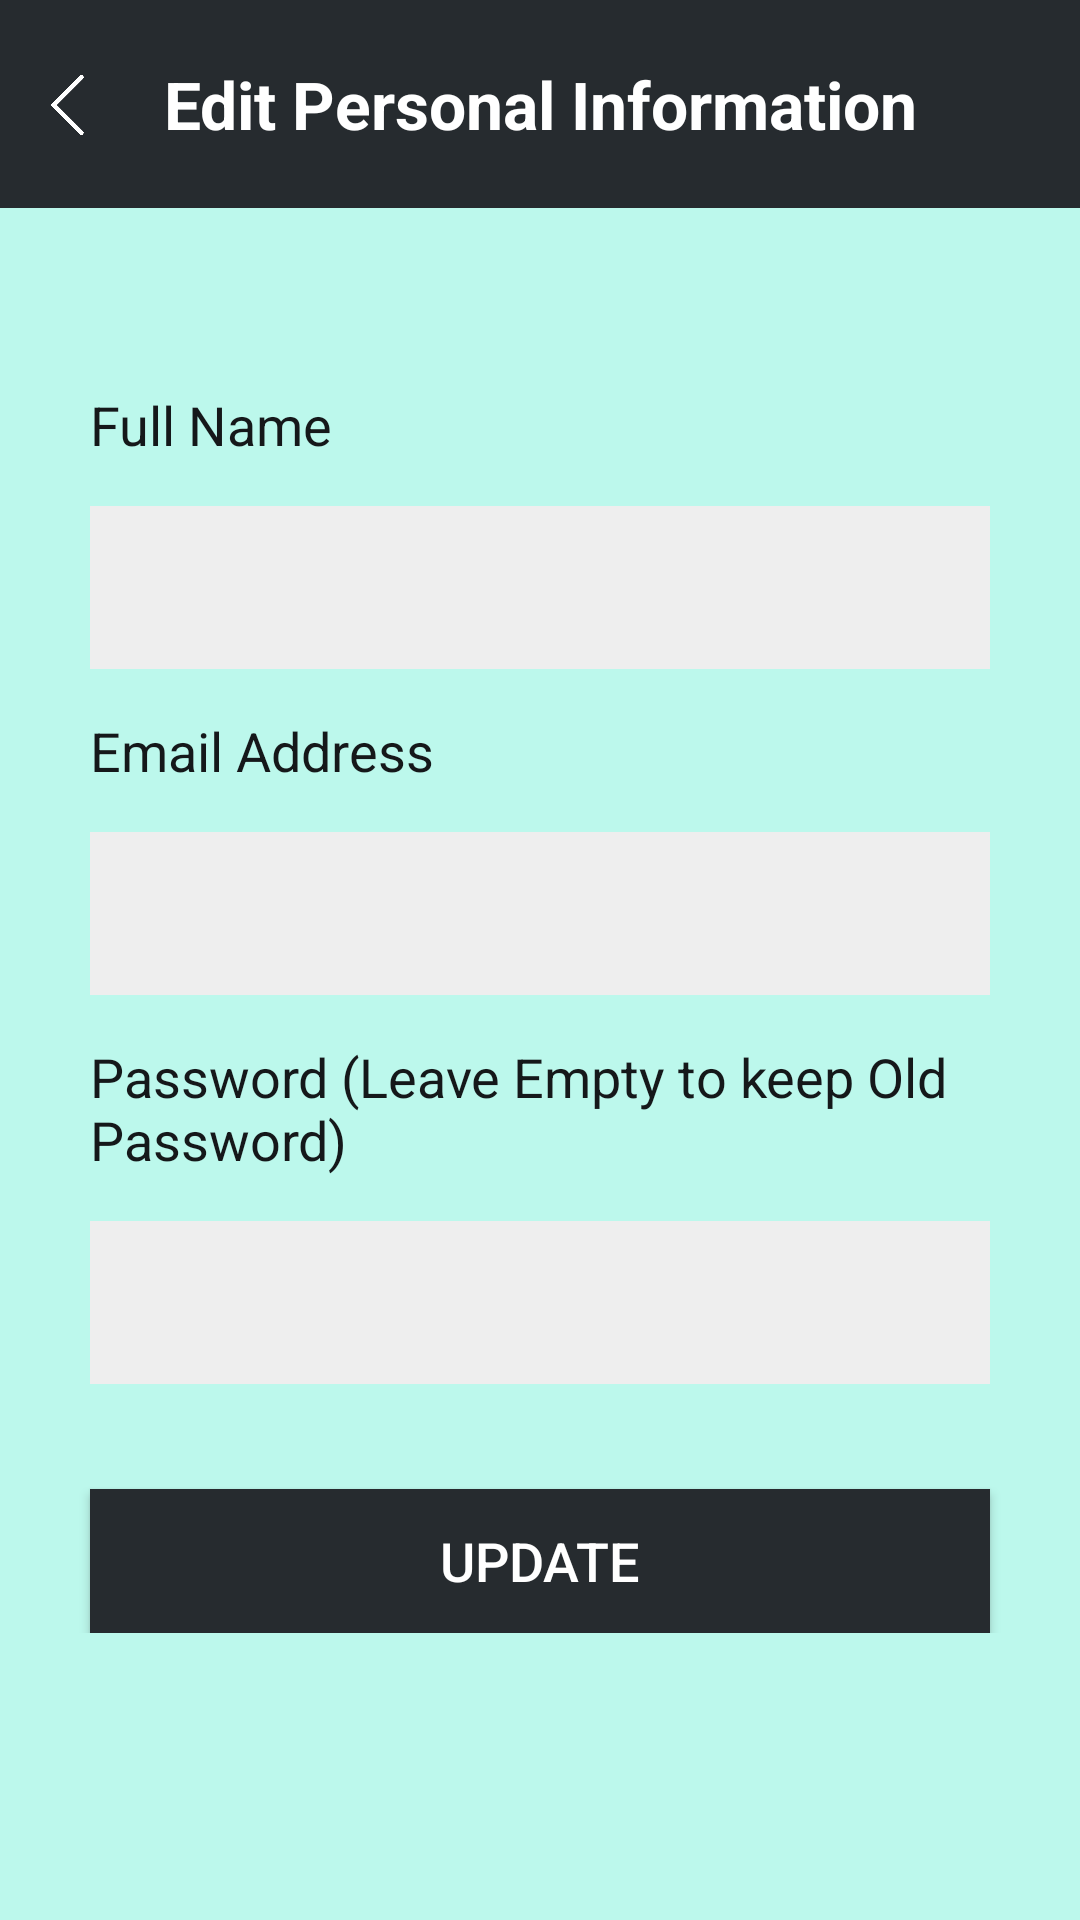

Named icons in this screenshot (1080*1920) and their centers, [x,y]:
backwhite: [67,105]
